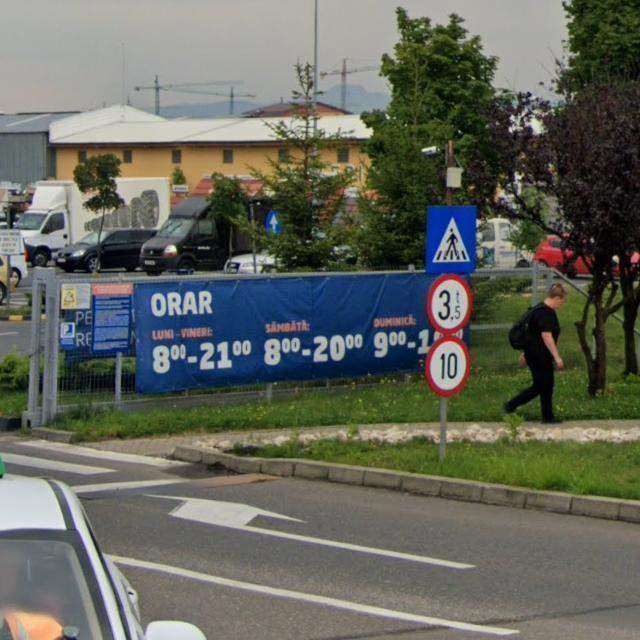forb_speed_over_10: (424, 337, 471, 396)
info_crosswalk: (424, 204, 477, 273)
